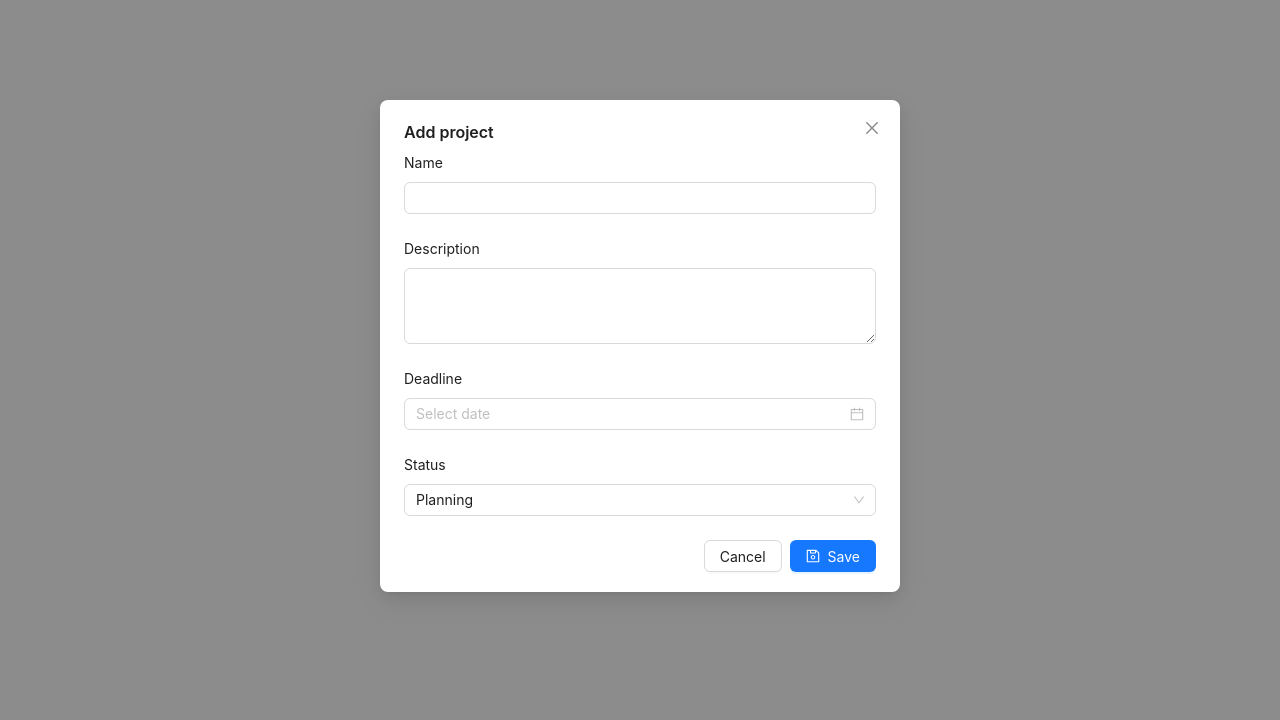
ProjectFormModal › requires the mandatory fields
Click the button "Save".
click(833, 556)  # box [790,540,876,572]
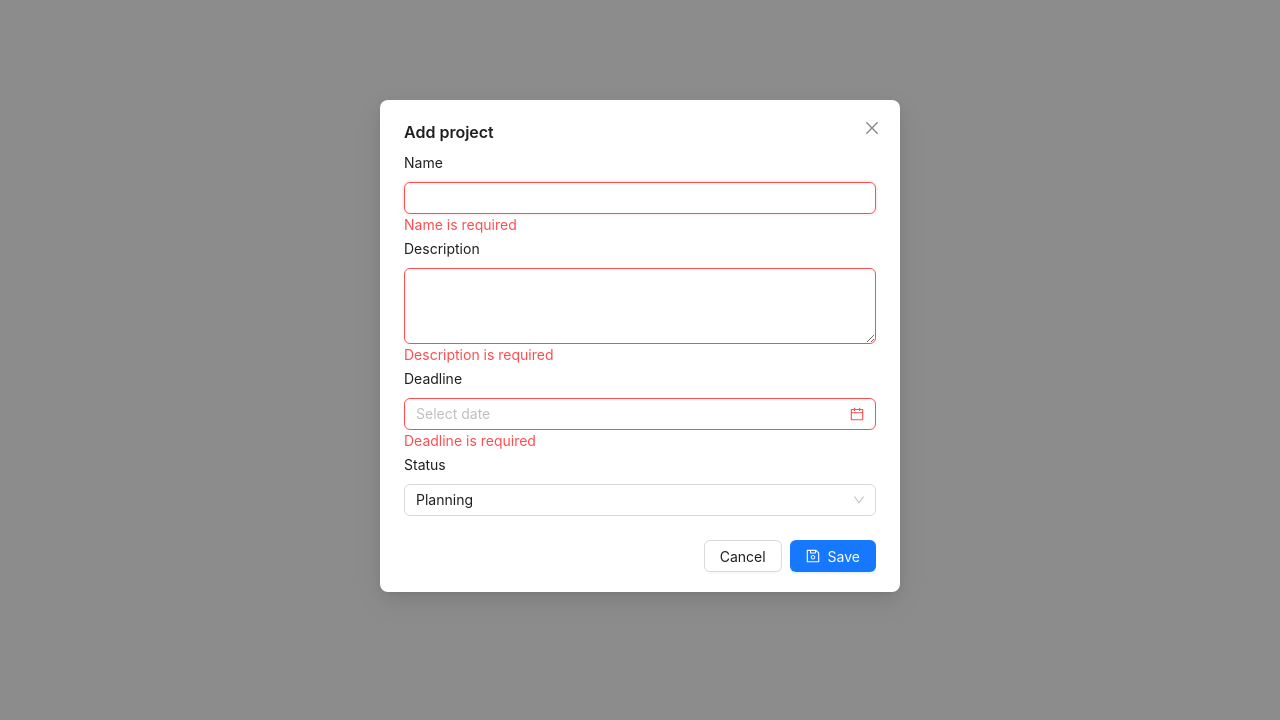
Check: the text "Name is required" is shown, box [404,216,517,233]
